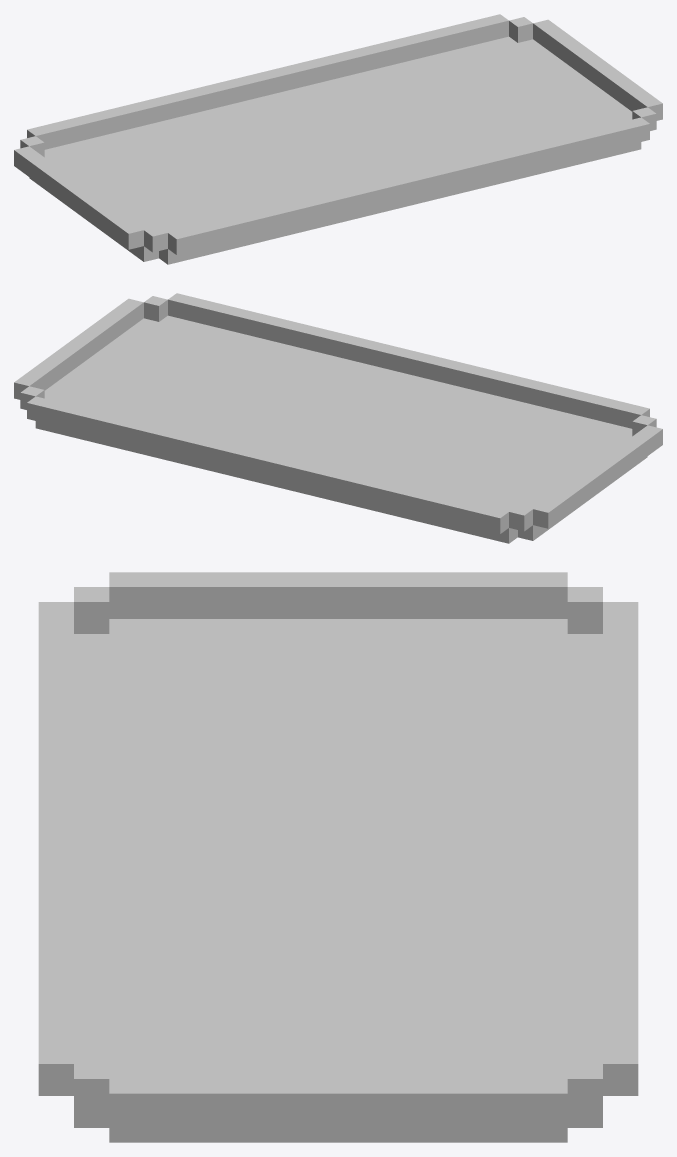
File: youki karage.tenpura.obj
3 renders of one model, top to bottom at view 1: azimuth 30°, elevation 25°; view 2: azimuth 150°, elevation 25°; view 3: azimuth 270°, elevation 25°, orthographic. The views are drawn at different scales.
Size of the model in its own units: 3.5 by 0.2 by 1.7.
Materials: 1 (1 with a texture image).
